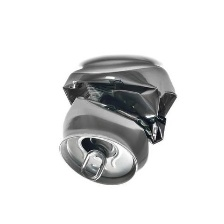can: (52, 52, 180, 187)
